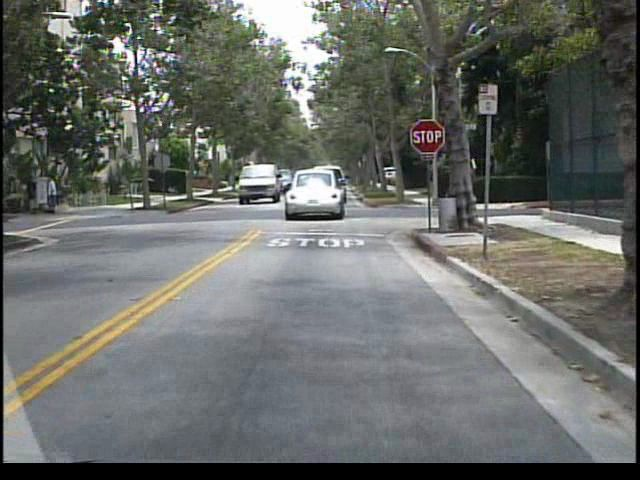person: (48, 169, 62, 215), (30, 173, 44, 217)
